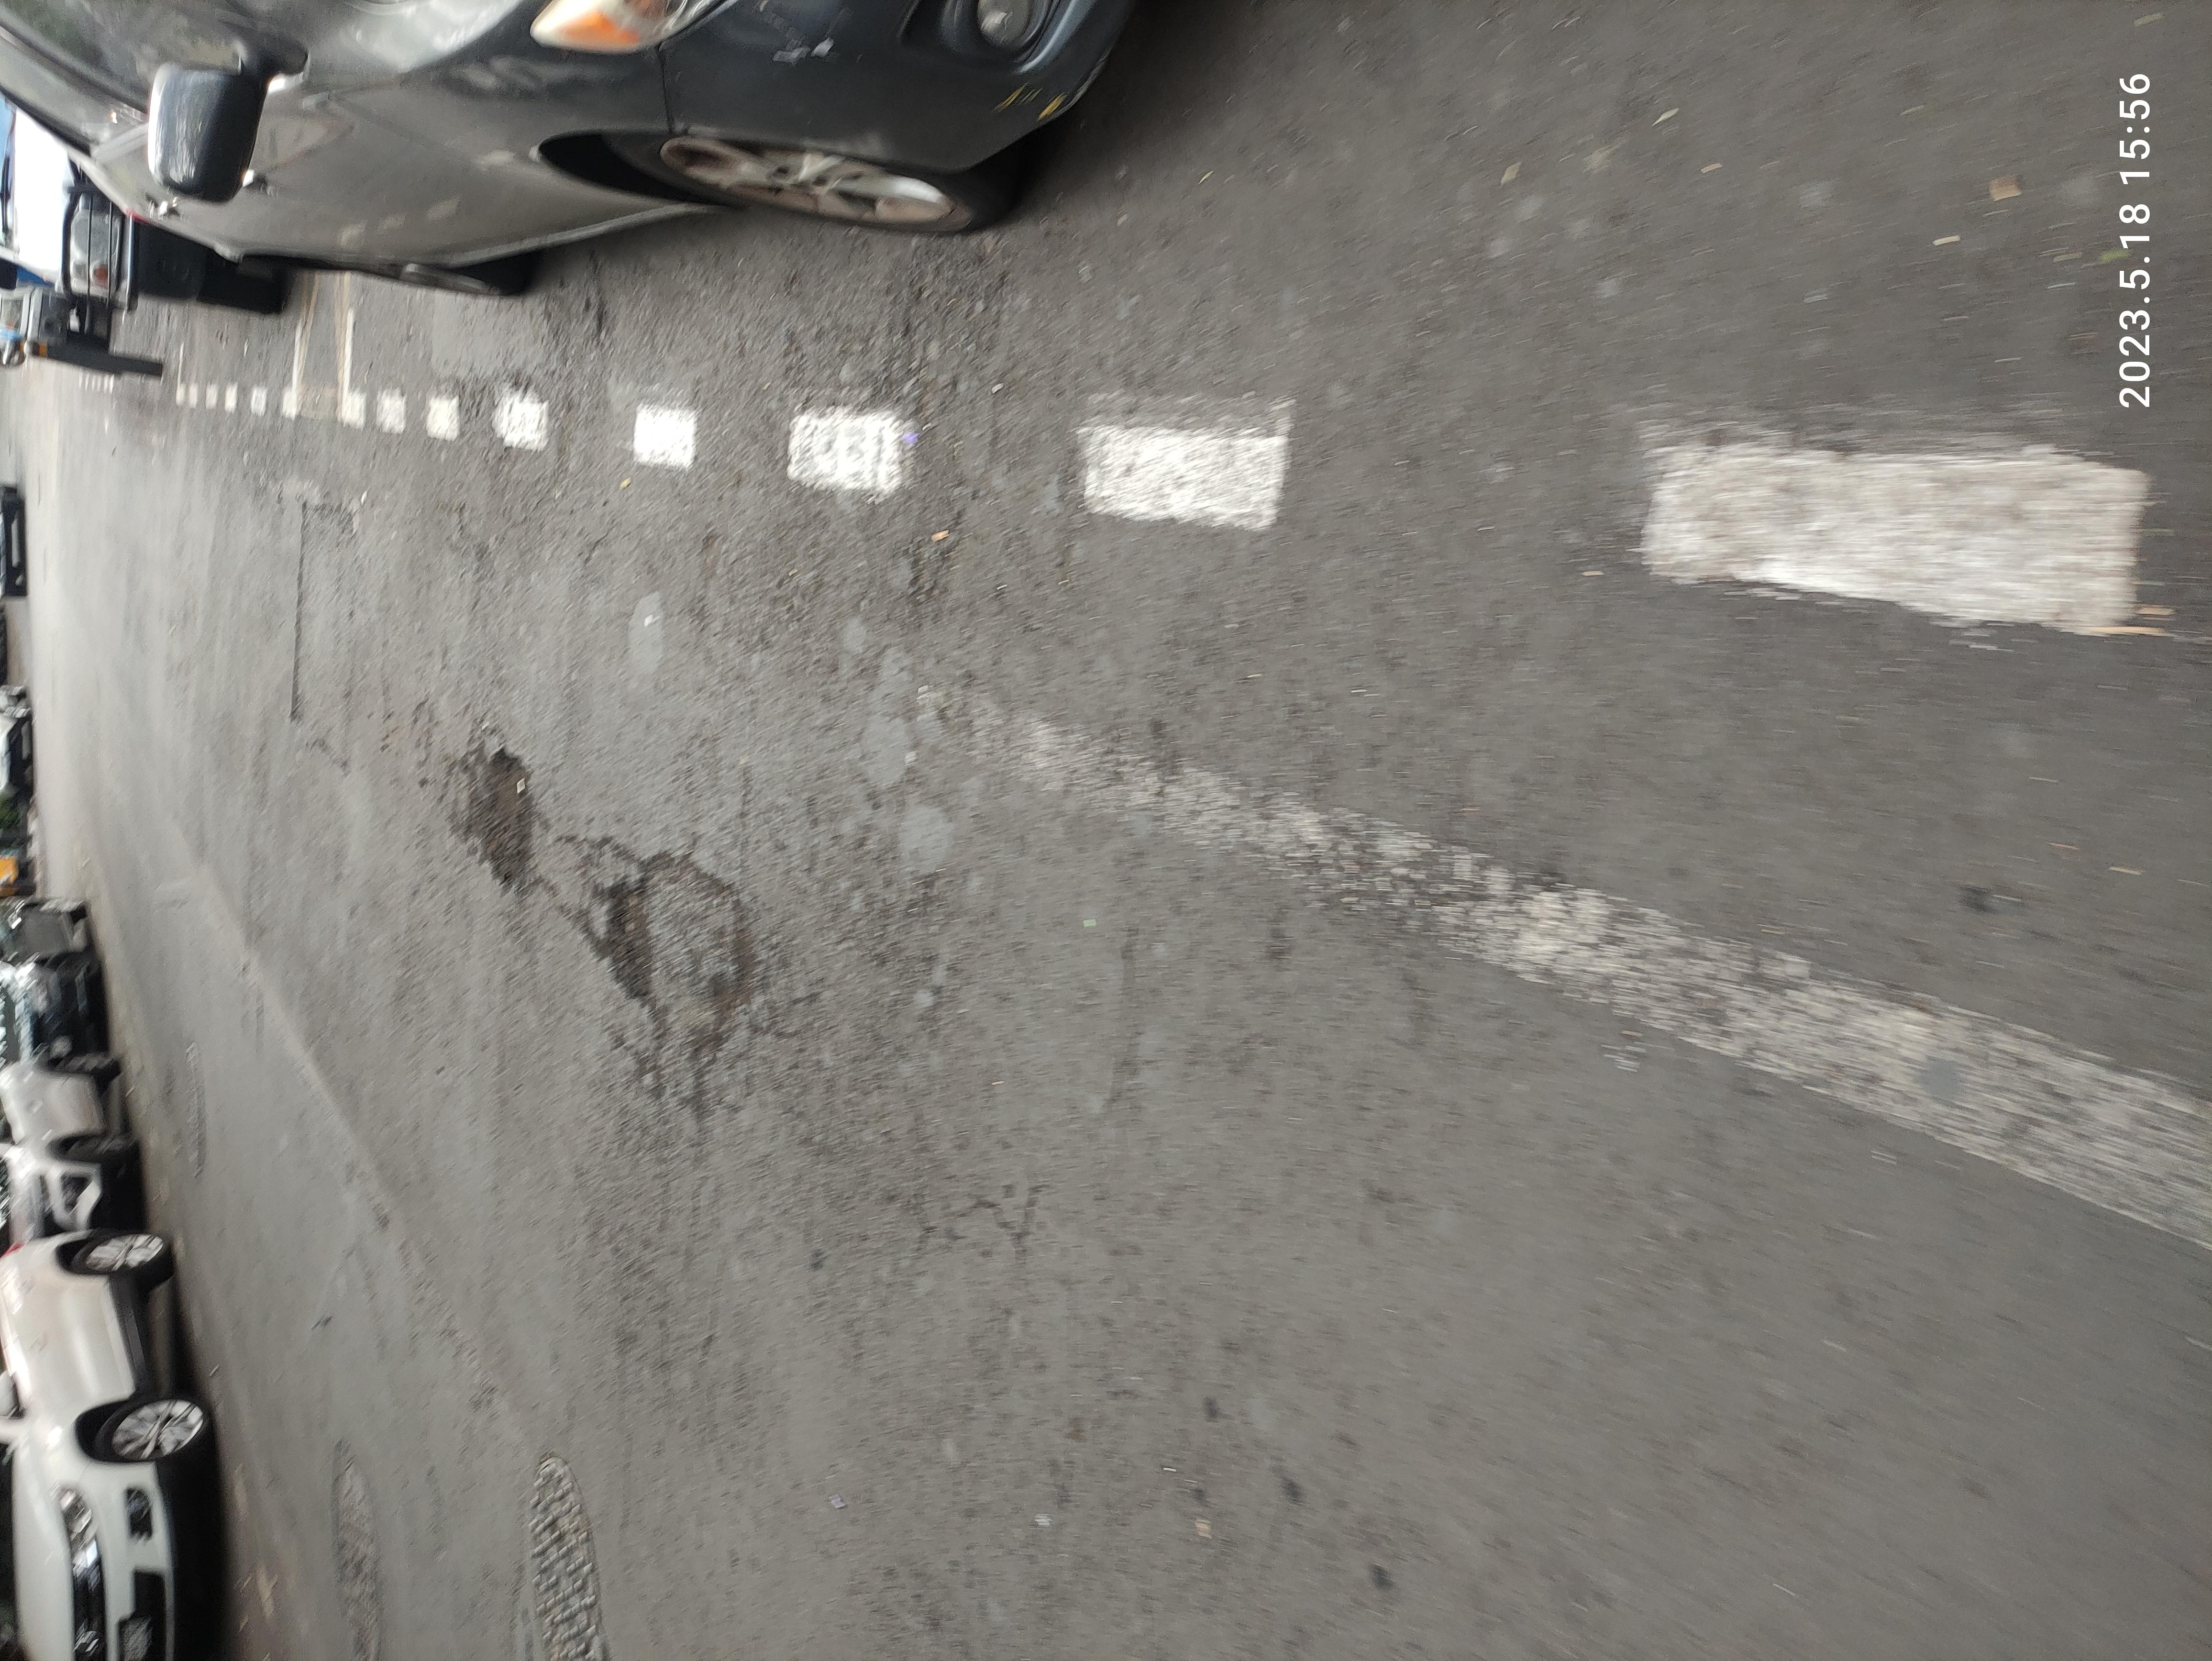pothole: (758, 429, 1140, 577), (1023, 343, 1217, 412)
